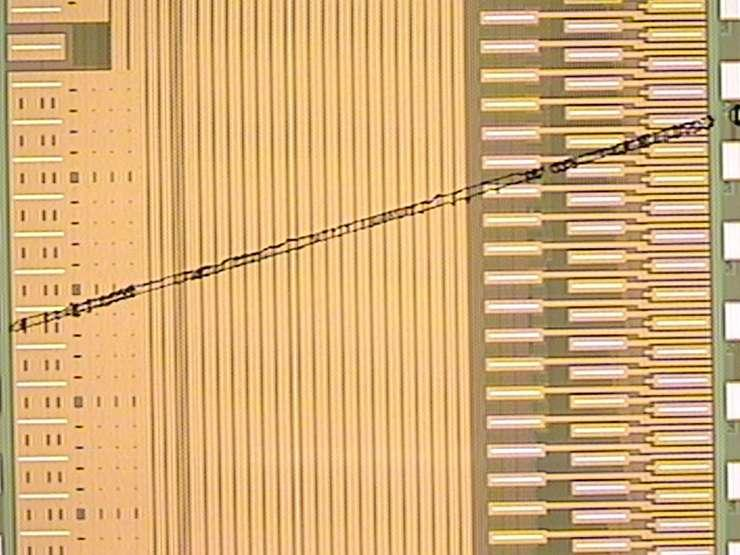SCRATCH: (5, 98, 740, 345)
